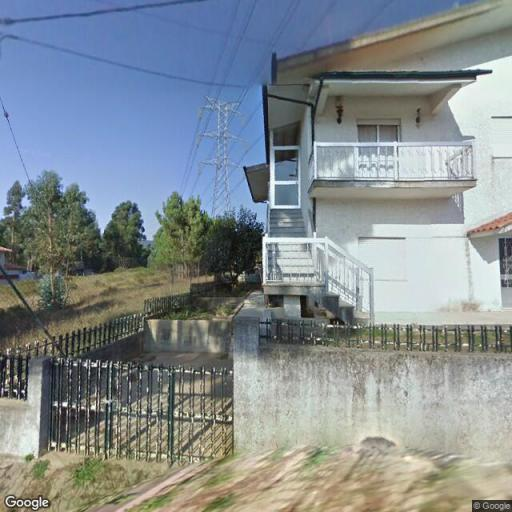ss_3: (196, 91, 248, 217)
